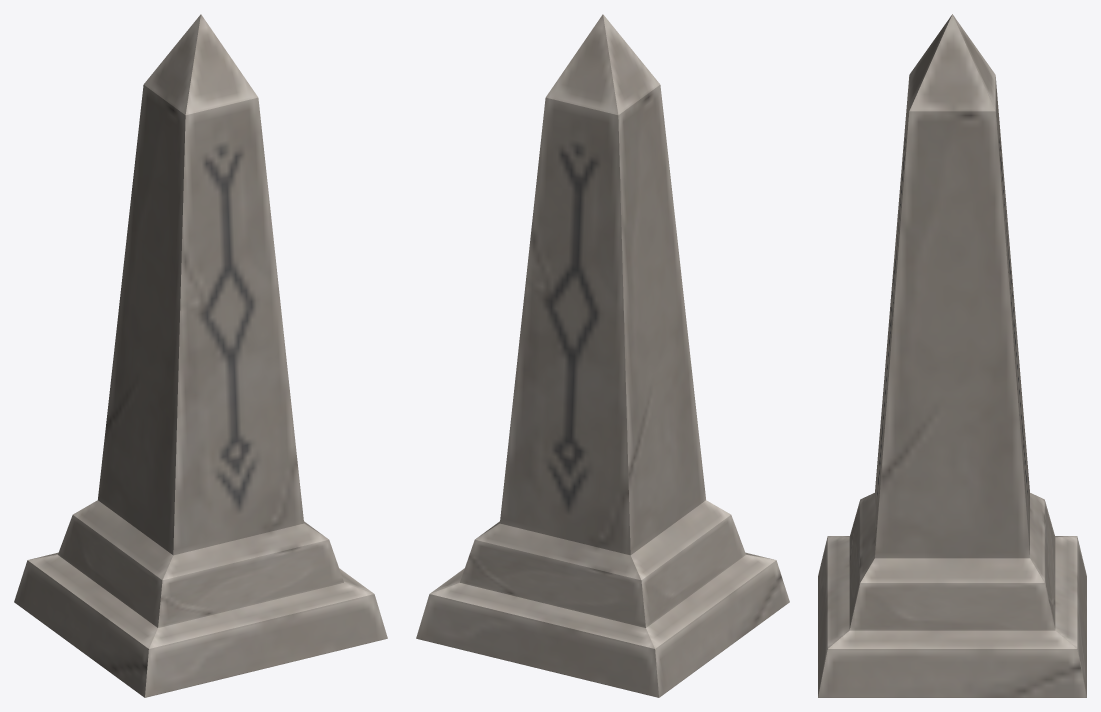
The model's file is stone_statue_1.FBX.
The picture shows the model from 3 angles, left to right: view 1: azimuth 30°, elevation 25°; view 2: azimuth 150°, elevation 25°; view 3: azimuth 270°, elevation 25°; orthographic projection. The views are drawn at different scales.
Parts seen in each view (by area): view 1: Object129; view 2: Object129; view 3: Object129.
Part boxes in pixels (<box>): Object129: <box>14,14,387,697</box>; Object129: <box>416,14,789,697</box>; Object129: <box>818,14,1086,697</box>.
Bounding box in the file's own units: 29.27 × 69.76 × 27.29.
